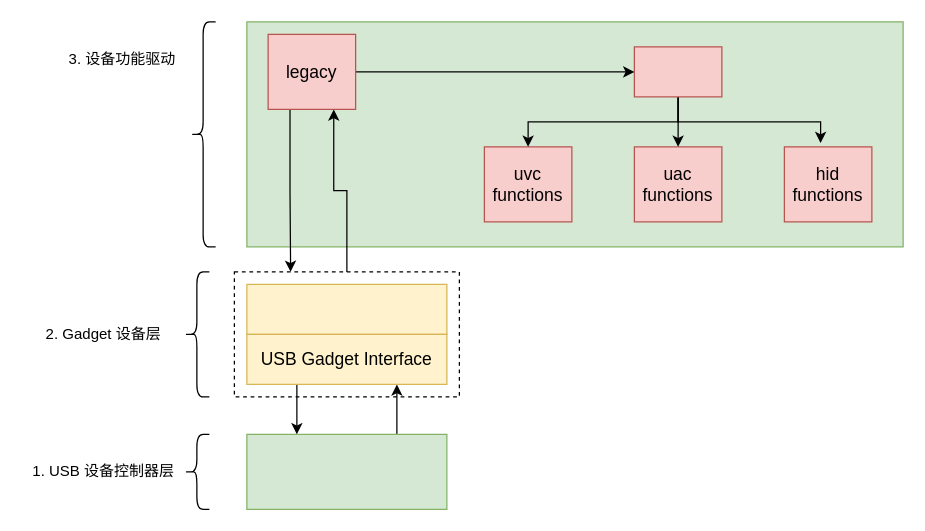
The diagram is 925 pixels wide and 531 high, and some of its shapes have lost their labels. Each missing label, with the box of its shape:
Compsite Framwork: (246, 283, 447, 334)
config: (633, 46, 722, 97)
Device Control driver: (246, 433, 447, 509)
